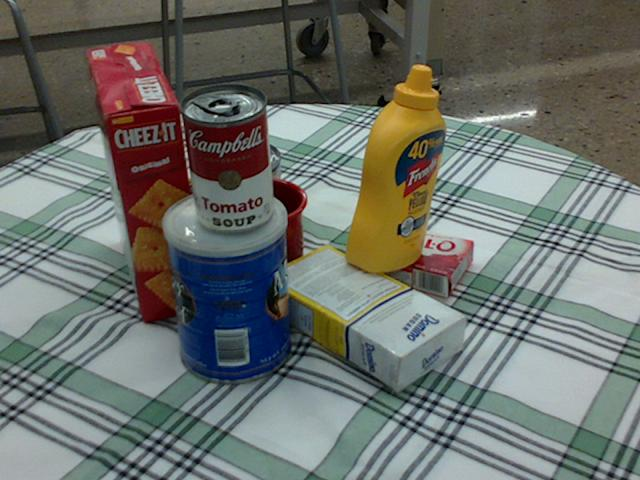cracker_box: (85, 45, 206, 320)
gelatin_box: (366, 223, 472, 299)
master_chef_can: (160, 187, 293, 384)
mug: (197, 177, 305, 286)
mustard_bottle: (345, 64, 444, 272)
potted_meat_can: (174, 157, 291, 246)
sugar_box: (261, 244, 468, 387)
tomato_soup_can: (178, 82, 272, 231)
tuna_fish_can: (200, 138, 280, 203)
